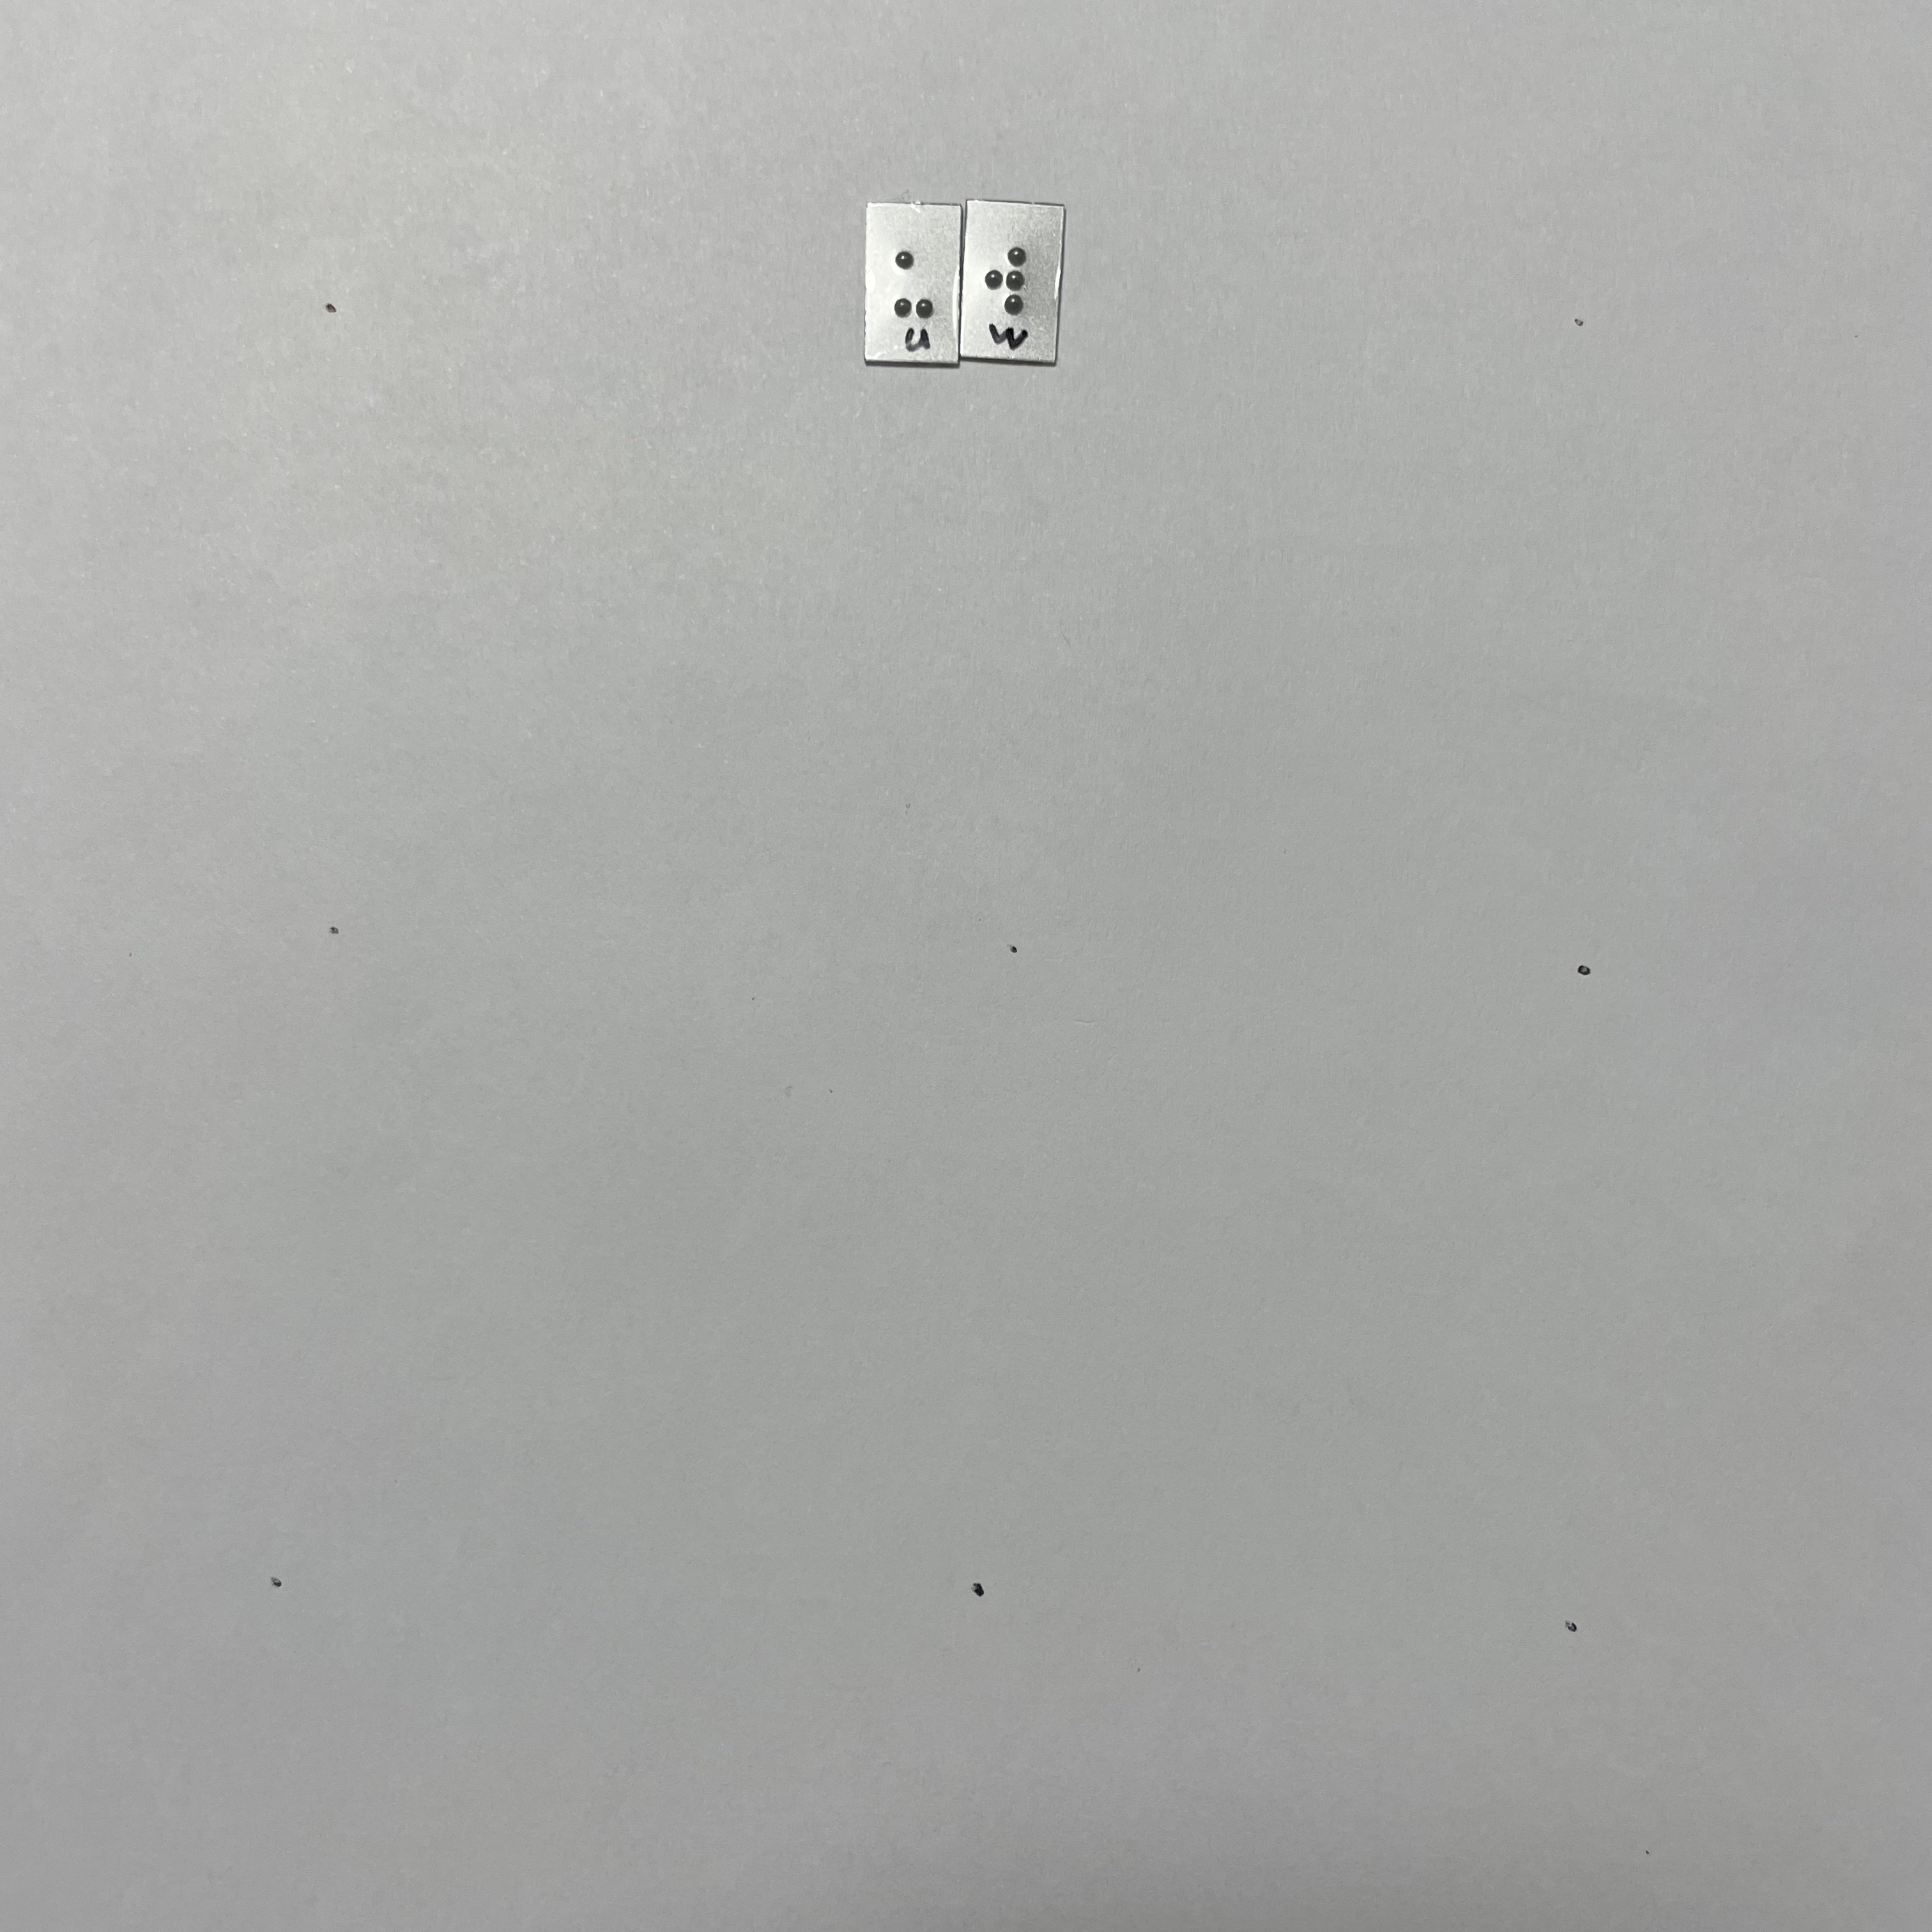u: (886, 236, 944, 321)
w: (981, 238, 1031, 324)
